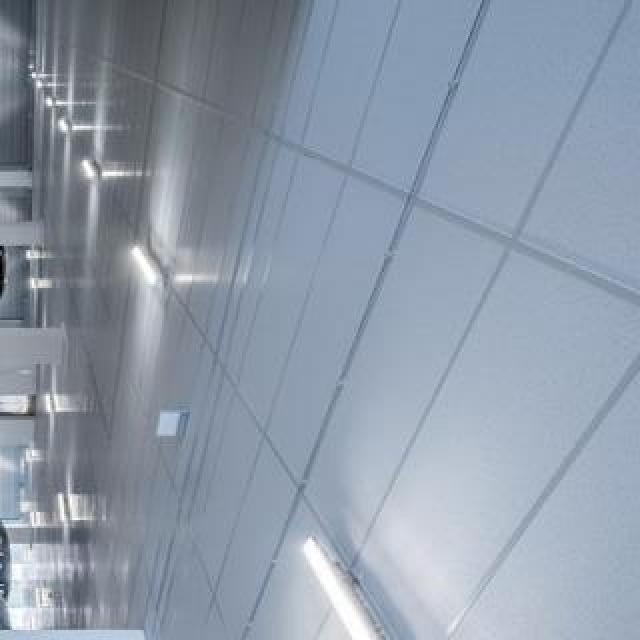fluorescent tube: (282, 528, 436, 640), (120, 233, 164, 298), (40, 482, 78, 554), (44, 104, 89, 147), (76, 147, 109, 198), (37, 379, 59, 437)
